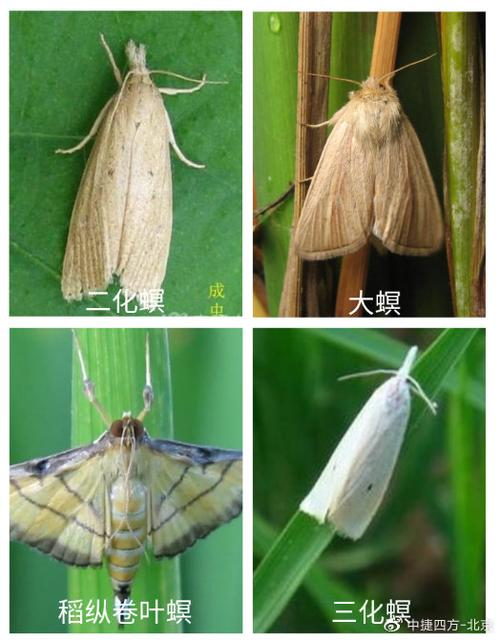Crambidae: (1, 333, 245, 610), (60, 27, 215, 299), (298, 346, 442, 543)
